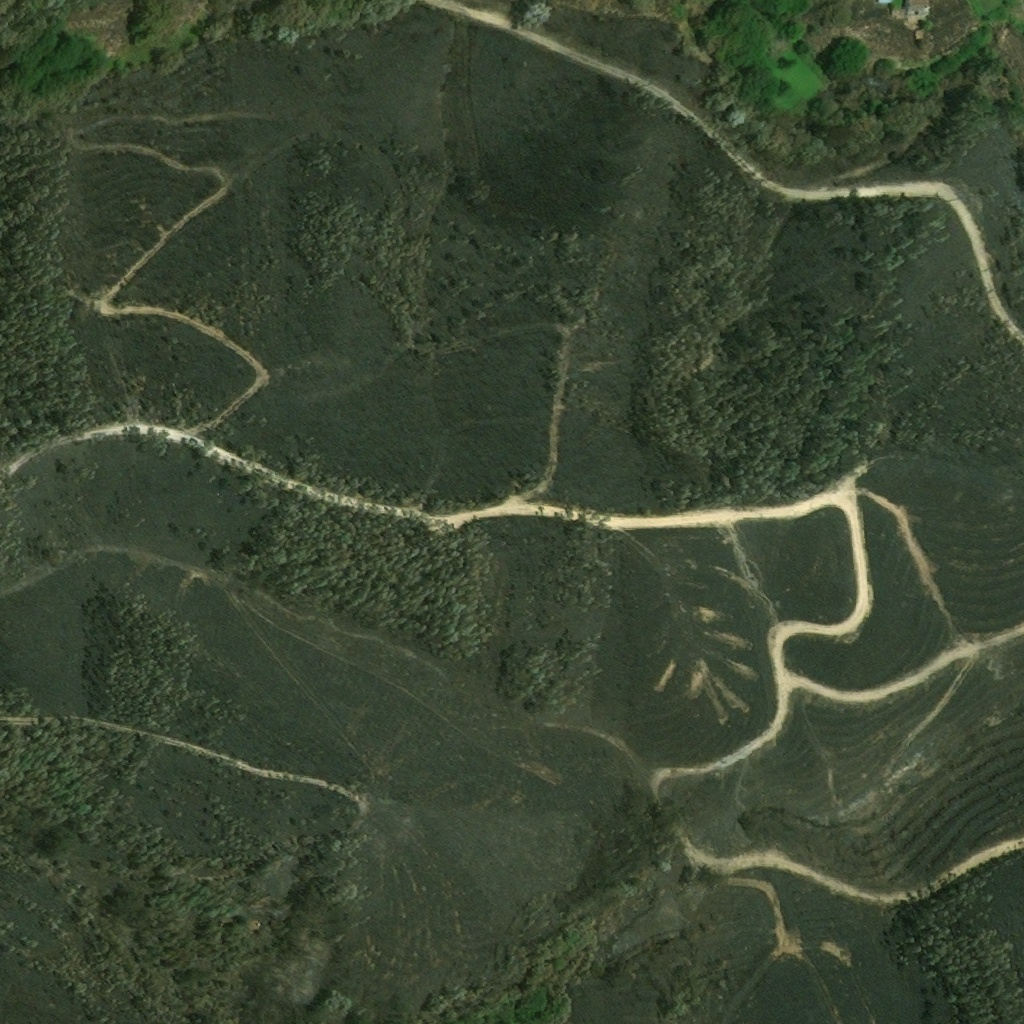4 un-classified: (971, 76, 1009, 101), (899, 0, 927, 16), (876, 0, 895, 4)
